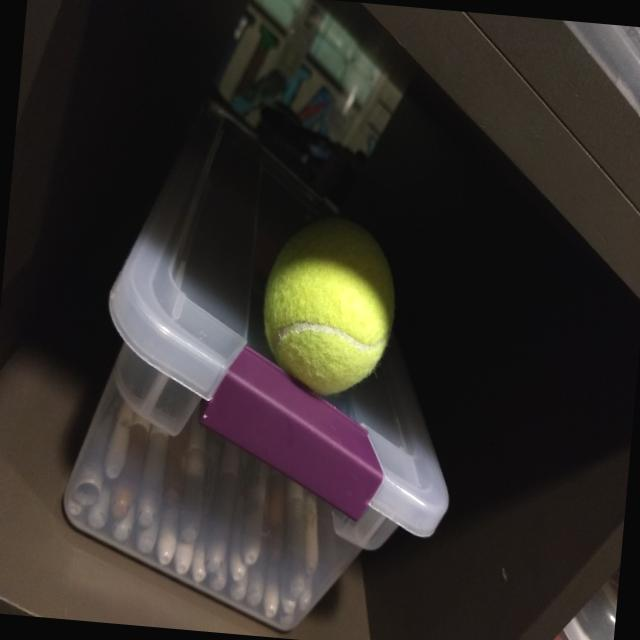Tennis Ball: (242, 206, 406, 406)
